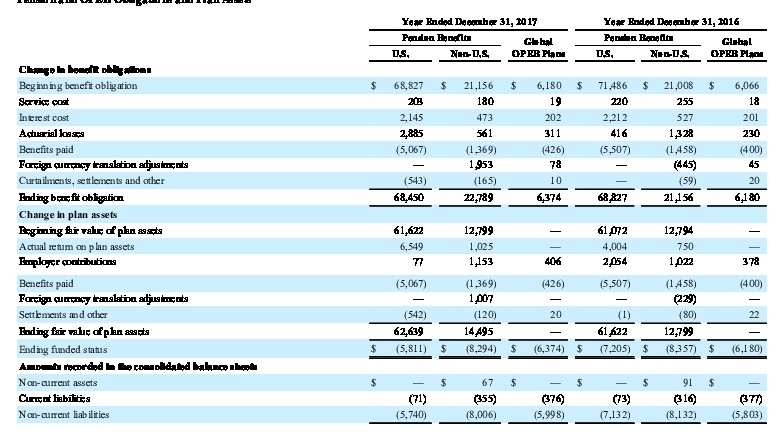table: (0, 0, 783, 441)
